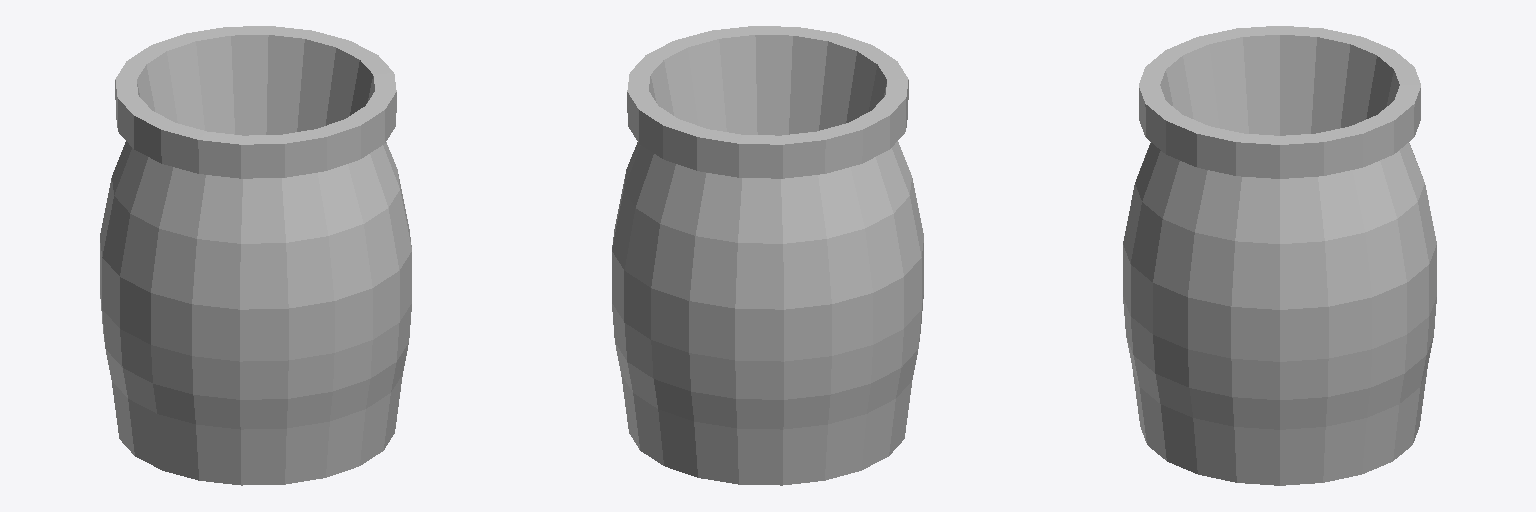
File: jar_1.obj
The picture shows the model from 3 angles: view 1: azimuth 30°, elevation 25°; view 2: azimuth 150°, elevation 25°; view 3: azimuth 270°, elevation 25°; orthographic projection.
Parts seen in each view (by area): view 1: textureEditorIsolateSelectSet pasted__glass2; view 2: textureEditorIsolateSelectSet pasted__glass2; view 3: textureEditorIsolateSelectSet pasted__glass2.
Boxes of the visible parts, box(x1,y1,x2,y2) form: textureEditorIsolateSelectSet pasted__glass2: box(100, 26, 411, 485); textureEditorIsolateSelectSet pasted__glass2: box(612, 26, 923, 485); textureEditorIsolateSelectSet pasted__glass2: box(1123, 26, 1436, 485).
Bounding box in the file's own units: 0.3548 × 0.4255 × 0.3548.